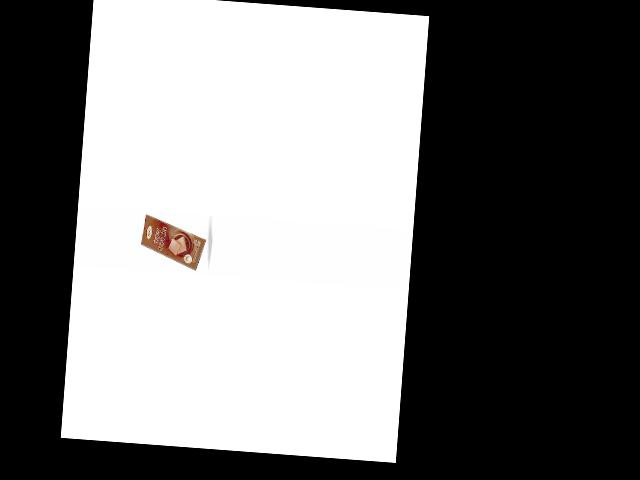chocolate: (138, 213, 210, 273)
